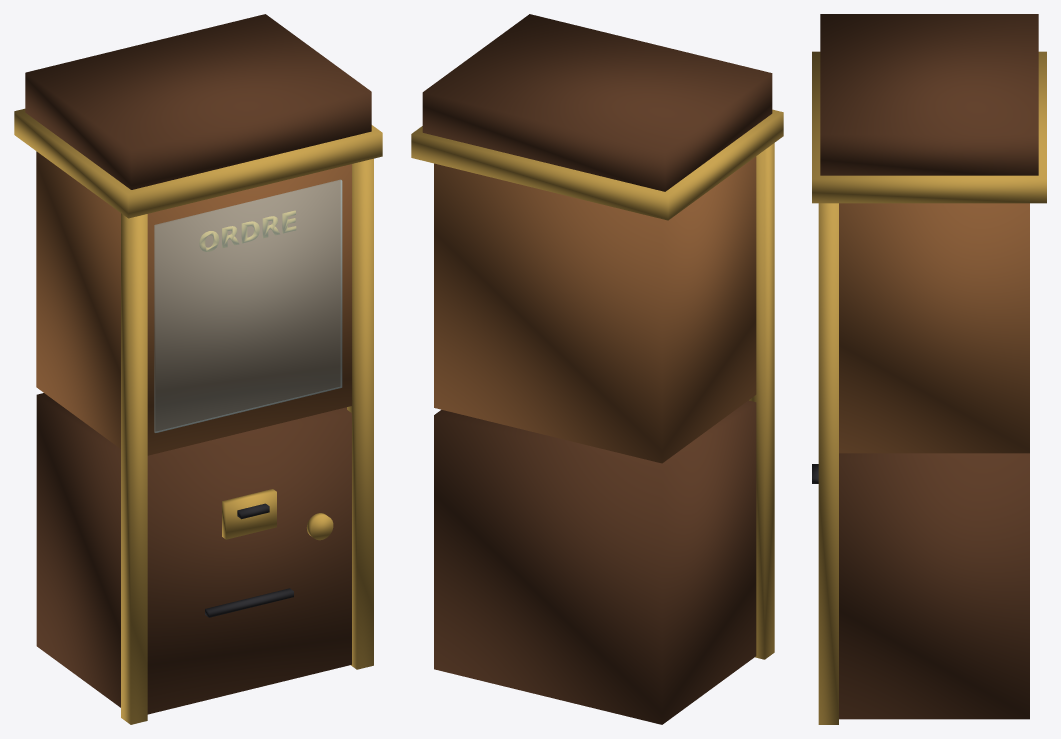
The model's file is fortune-telling-machine.glb.
3 renders of one model, left to right at view 1: azimuth 30°, elevation 25°; view 2: azimuth 150°, elevation 25°; view 3: azimuth 270°, elevation 25°, orthographic. The views are drawn at different scales.
Visible parts, largest first — view 1: part0, part1, part2, part12, part3, part11, part13; view 2: part0, part1, part3, part12; view 3: part0, part1, part12, part3.
Part boxes in pixels (box(x1,y1,x2,y2)): part0: box(25, 14, 371, 714); part1: box(36, 151, 351, 455); part2: box(154, 179, 342, 432); part12: box(121, 158, 373, 724); part3: box(14, 108, 382, 218); part11: box(199, 210, 296, 251); part13: box(205, 503, 293, 617); part0: box(422, 14, 772, 724); part1: box(434, 156, 756, 463); part3: box(411, 109, 783, 220); part12: box(749, 143, 774, 659); part0: box(820, 14, 1038, 719); part1: box(839, 203, 1029, 453); part12: box(818, 203, 838, 724); part3: box(812, 51, 1046, 203).
Size of the model in its own units: 0.4639 by 1 by 0.3608.
